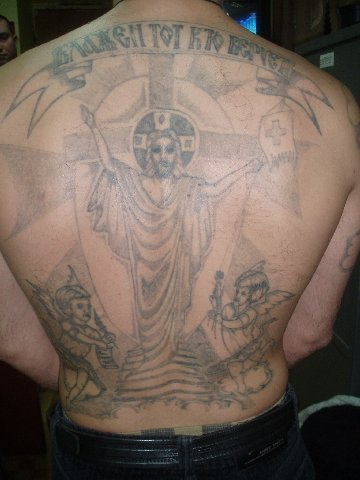tatu1_angel: (25, 269, 131, 405), (211, 266, 286, 387)
tatu3_bukva: (44, 10, 292, 78)
tatu9_krest: (265, 123, 292, 148)
